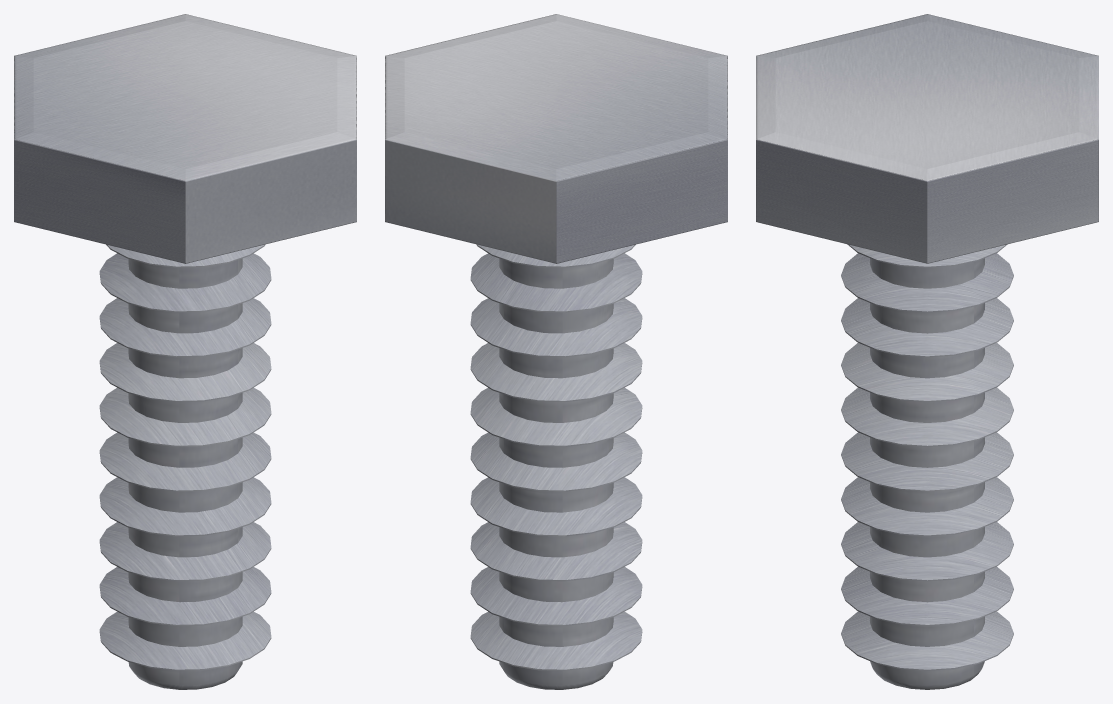
File: bolt.obj
3 views of the same model, side by side, from view 1: azimuth 30°, elevation 25°; view 2: azimuth 150°, elevation 25°; view 3: azimuth 270°, elevation 25° (orthographic).
Visible parts, largest first — view 1: pCylinder1, pCylinder2; view 2: pCylinder1, pCylinder2; view 3: pCylinder1, pCylinder2.
Part boxes in pixels (box(x1,y1,x2,y2)): pCylinder1: box(14, 14, 356, 263); pCylinder2: box(99, 244, 271, 689); pCylinder1: box(385, 14, 727, 263); pCylinder2: box(470, 244, 642, 689); pCylinder1: box(756, 14, 1098, 263); pCylinder2: box(841, 244, 1013, 689).
Bounding box in the file's own units: 2 × 3.19 × 1.73.
Materials: 2 (2 with a texture image).
